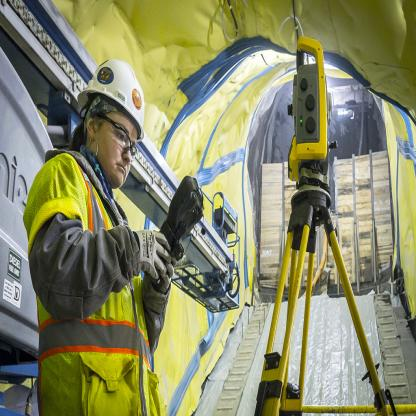Helmet: (76, 57, 142, 189)
